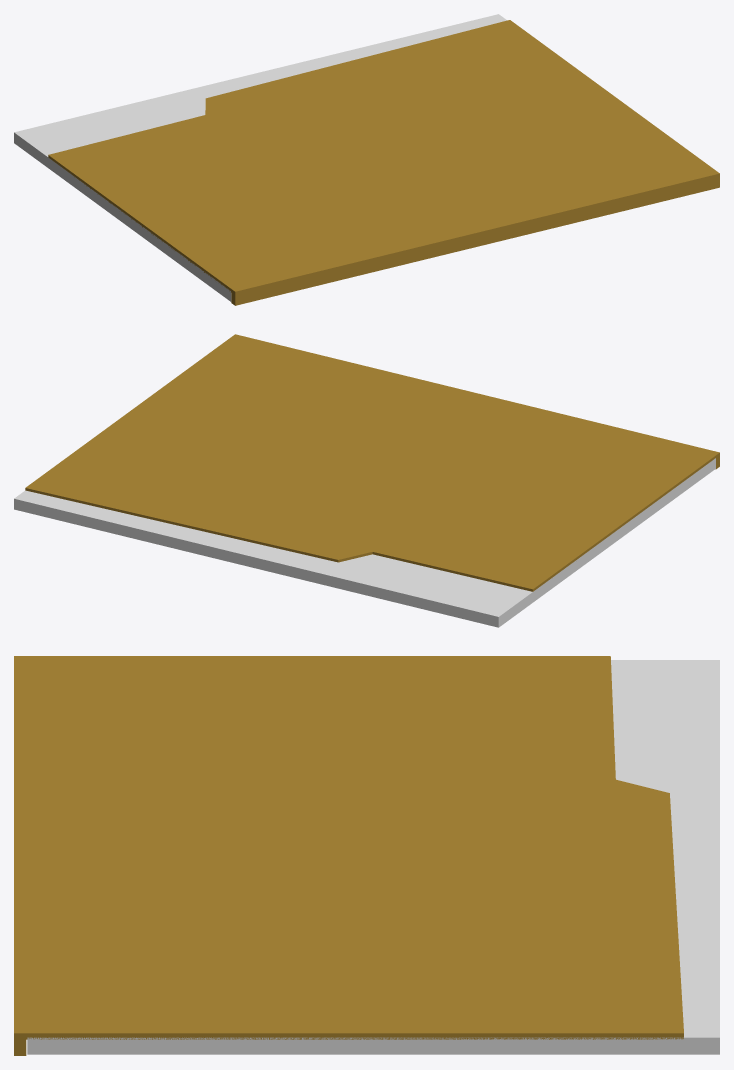
The model's file is Folder.glb.
The picture shows the model from 3 angles, top to bottom: view 1: azimuth 30°, elevation 25°; view 2: azimuth 150°, elevation 25°; view 3: azimuth 270°, elevation 25°; orthographic projection. The views are drawn at different scales.
Visible parts, largest first — view 1: Plane.001, Plane; view 2: Plane.001, Plane; view 3: Plane.001, Plane.
Boxes of the visible parts, x1,y1,x2,y2 form: Plane.001: [48, 20, 719, 305]; Plane: [14, 14, 506, 301]; Plane.001: [25, 334, 719, 591]; Plane: [14, 458, 715, 627]; Plane.001: [14, 656, 683, 1055]; Plane: [27, 660, 719, 1054].
Size of the model in its own units: 2 by 0.0556 by 1.58.
